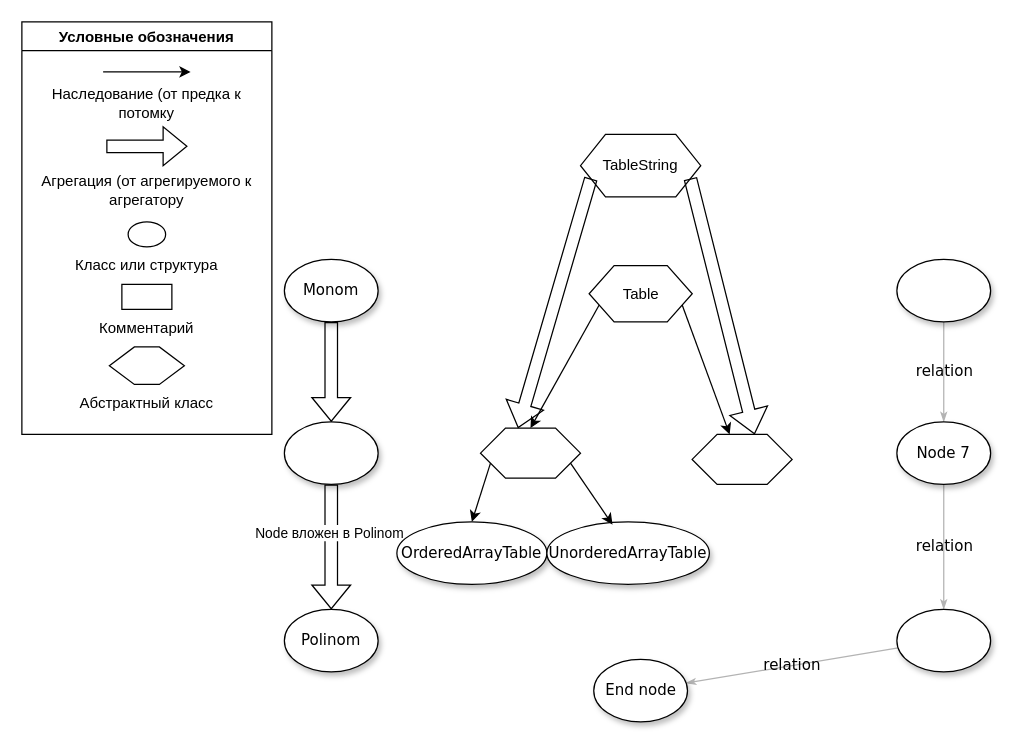
This 1020x753 diagram has some shape labels left out. Here are the shapes that lost their labels. From the top down, the centre of each, then its label:
pixel 944 292: Node 3
pixel 332 454: Node
pixel 529 452: ArrayTable
pixel 741 458: ListTable
pixel 944 642: Node 9
